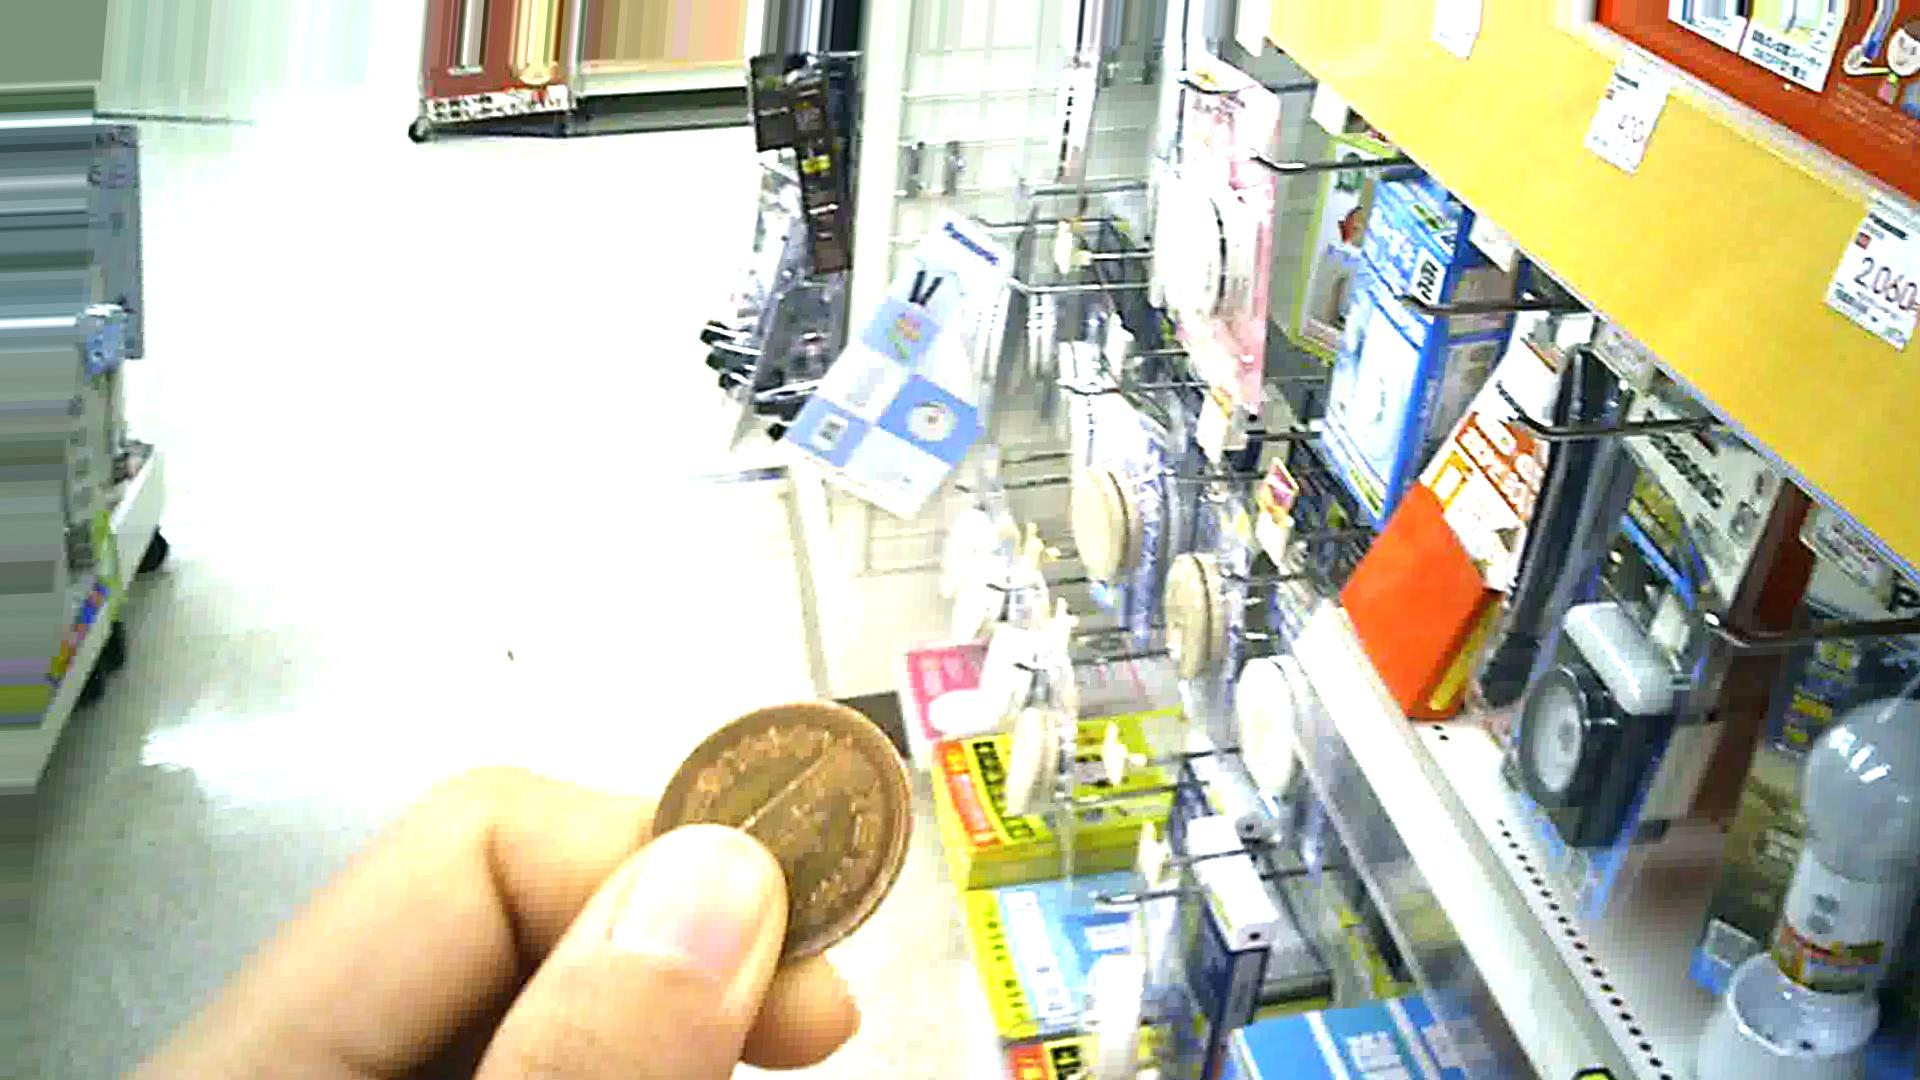10 Yen: (632, 686, 911, 961)
